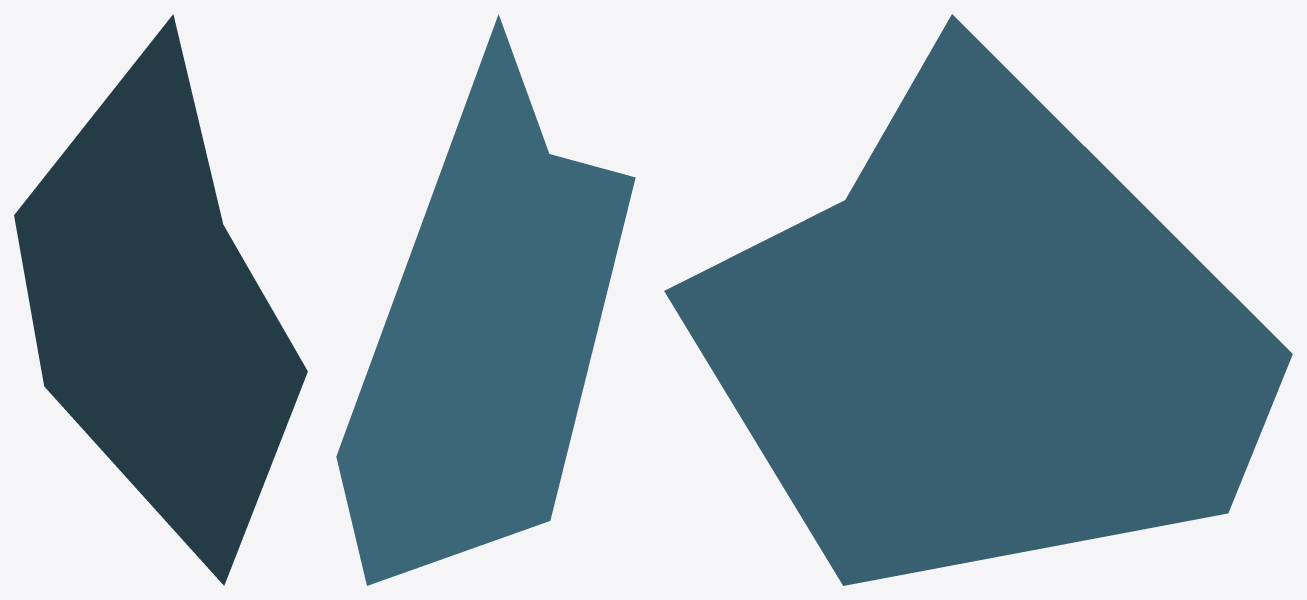
File: NexusC_Cloth_4.fbx
3 renders of one model, left to right at view 1: azimuth 30°, elevation 25°; view 2: azimuth 150°, elevation 25°; view 3: azimuth 270°, elevation 25°, orthographic. The views are drawn at different scales.
Visible parts, largest first — view 1: polySurface65; view 2: polySurface65; view 3: polySurface65.
Part boxes in pixels (x1,y1,x2,y2): polySurface65: (14,14,307,585); polySurface65: (336,14,635,585); polySurface65: (664,14,1292,585).
Bounding box in the file's own units: 0 × 43.36 × 43.2.
